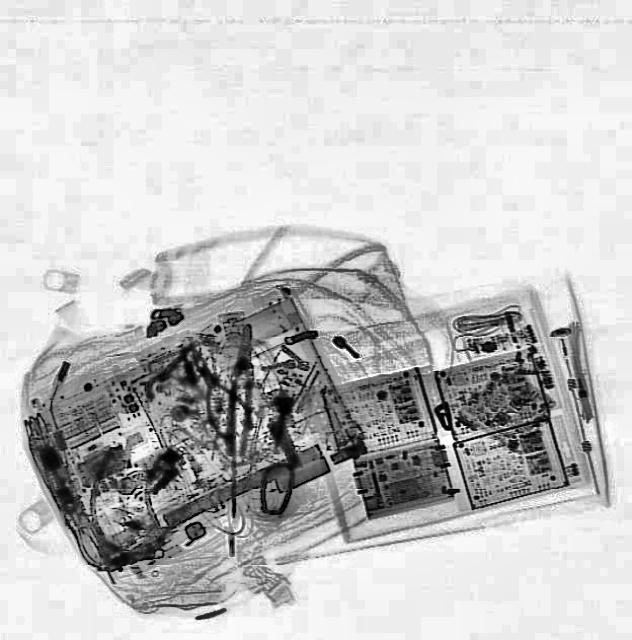Pliers: (171, 331, 261, 447), (223, 319, 259, 457)
